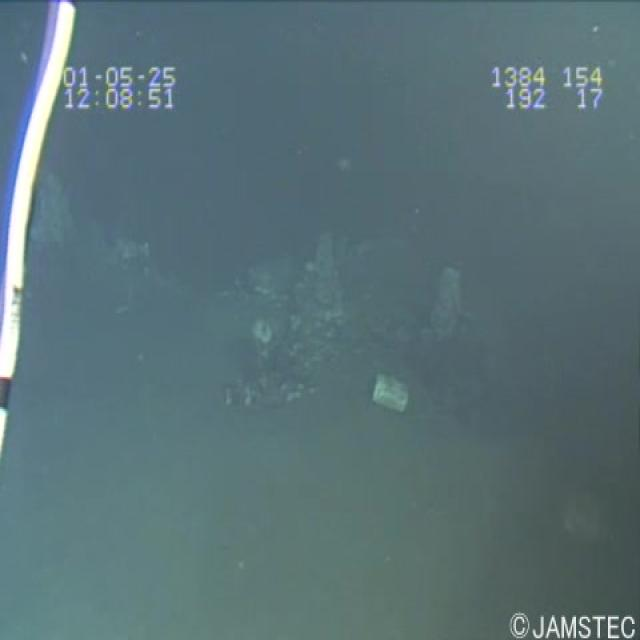plastic: (367, 366, 417, 420)
